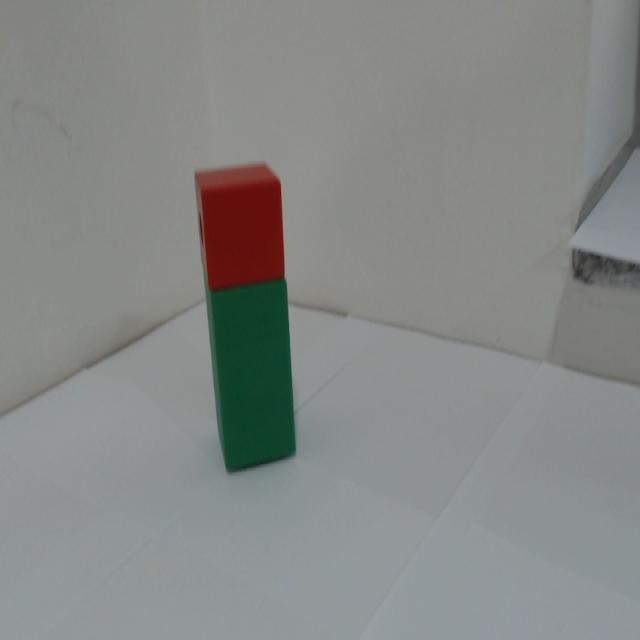cube: (188, 160, 301, 294)
